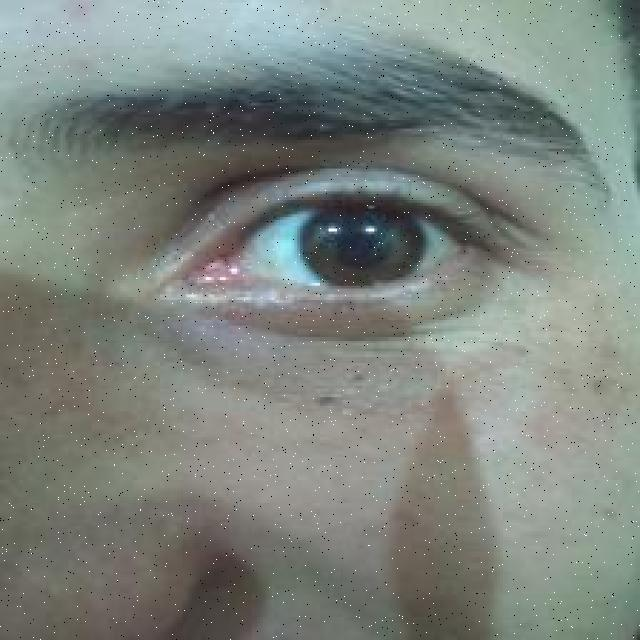Normal: (74, 82, 640, 398)
